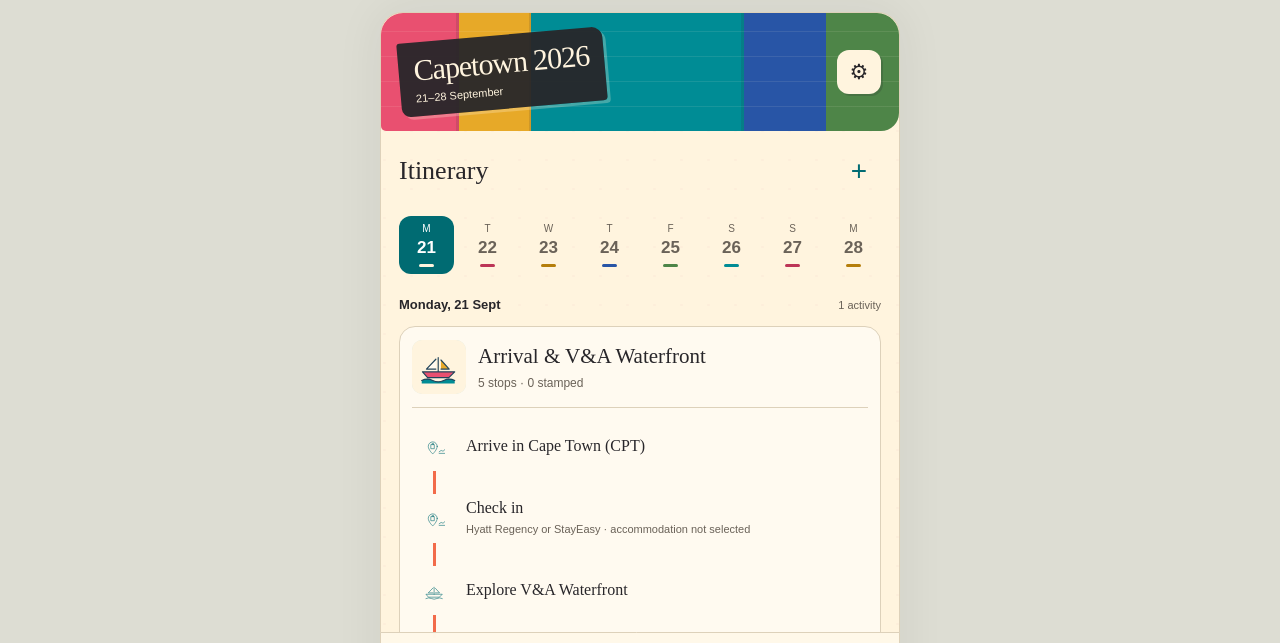
Scenario: unified activity form › shows every approved field and only requires Name
Expected: the heading "Capetown 2026" is shown, [412,40,590,86]
Click the button named "Add activity" at (859, 171), box [837,149,881,193]
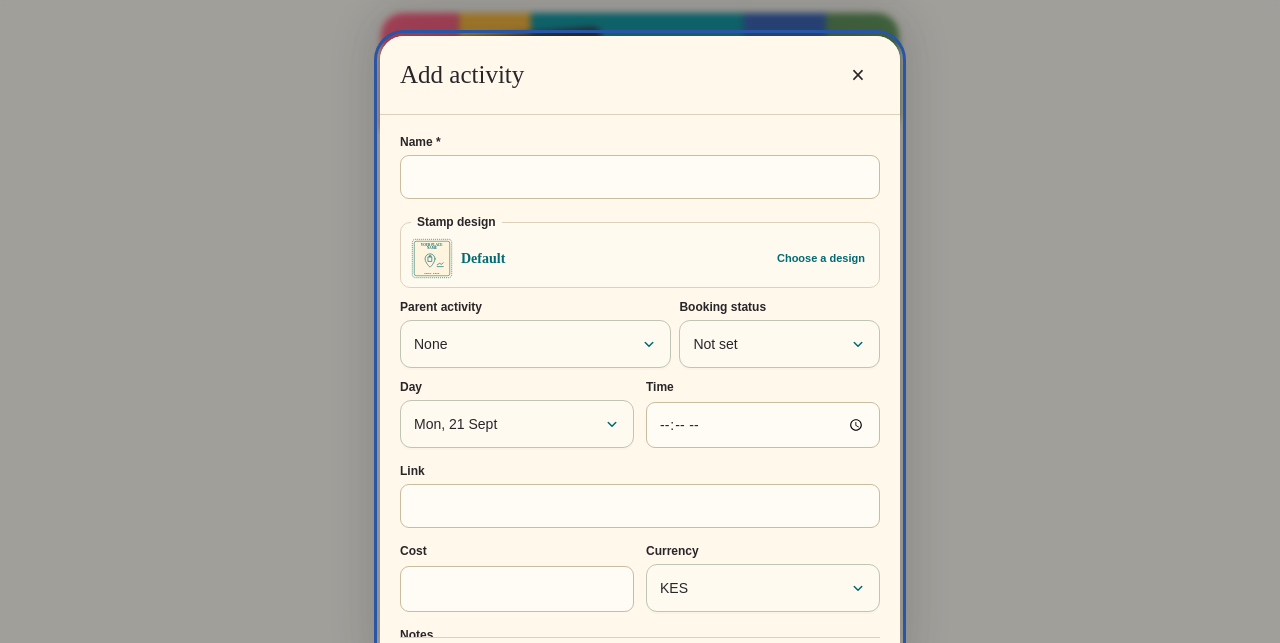
Expected: the field labelled "Name *" is shown, [400,155,880,199]
Expected: the dropdown labelled "Parent activity" is shown, [400,320,671,368]
Expected: the dropdown labelled "Day" is shown, [400,400,634,448]
